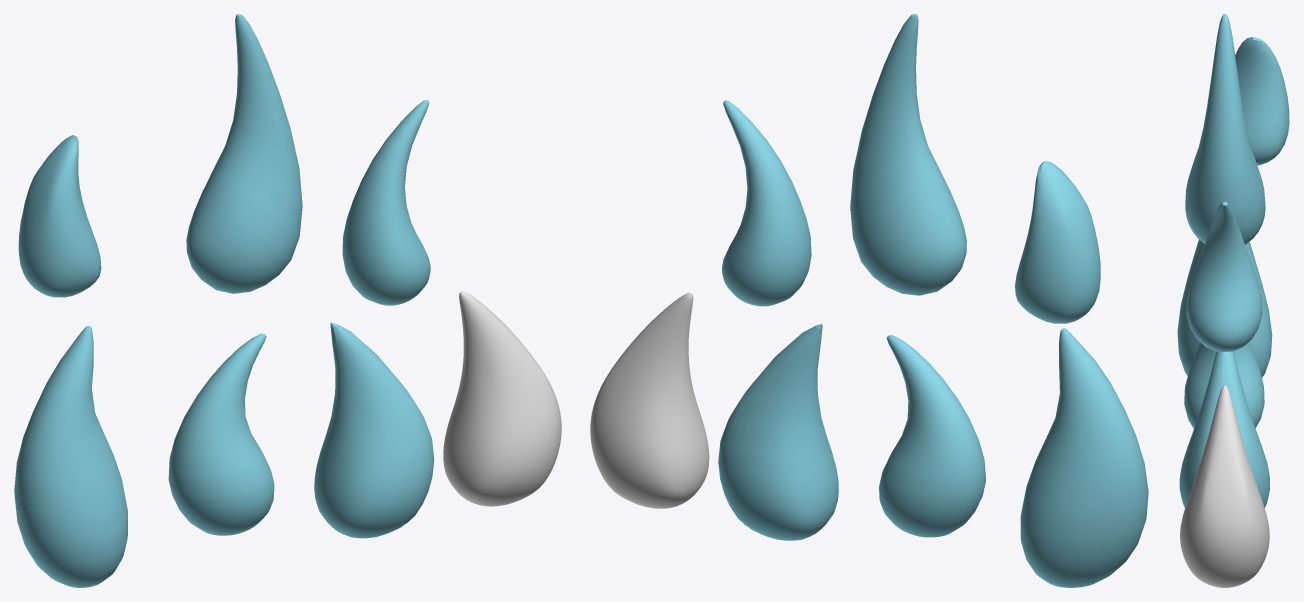
Rendered from droplets.fbx.
3 views of the same model, side by side, from view 1: azimuth 30°, elevation 25°; view 2: azimuth 150°, elevation 25°; view 3: azimuth 270°, elevation 25° (orthographic). The views are drawn at different scales.
Parts seen in each view (by area): view 1: Droplet 6, Droplet 2, Droplet 4, droplet hp, Droplet 5, Droplet 1, Droplet 3; view 2: Droplet 6, Droplet 2, Droplet 4, droplet hp, Droplet 5, Droplet 1, Droplet 3; view 3: droplet hp, Droplet 2, Droplet 1, Droplet 3, Droplet 4, Droplet 5, Droplet 6.
Boxes of the visible parts, x1,y1,x2,y2 form: Droplet 6: [14, 326, 127, 587]; Droplet 2: [186, 14, 302, 293]; Droplet 4: [314, 322, 434, 538]; droplet hp: [443, 291, 561, 506]; Droplet 5: [168, 333, 274, 535]; Droplet 1: [342, 100, 430, 305]; Droplet 3: [18, 135, 101, 297]; Droplet 6: [1020, 328, 1148, 587]; Droplet 2: [850, 14, 966, 295]; Droplet 4: [718, 324, 838, 540]; droplet hp: [590, 292, 709, 508]; Droplet 5: [879, 335, 985, 537]; Droplet 1: [722, 100, 811, 306]; Droplet 3: [1015, 161, 1100, 323]; droplet hp: [1180, 385, 1269, 587]; Droplet 2: [1185, 14, 1265, 244]; Droplet 1: [1186, 201, 1262, 351]; Droplet 3: [1235, 37, 1289, 165]; Droplet 4: [1179, 351, 1269, 507]; Droplet 5: [1184, 342, 1264, 428]; Droplet 6: [1177, 239, 1272, 377].
Bounding box in the file's own units: 1203 × 1177 × 258.
